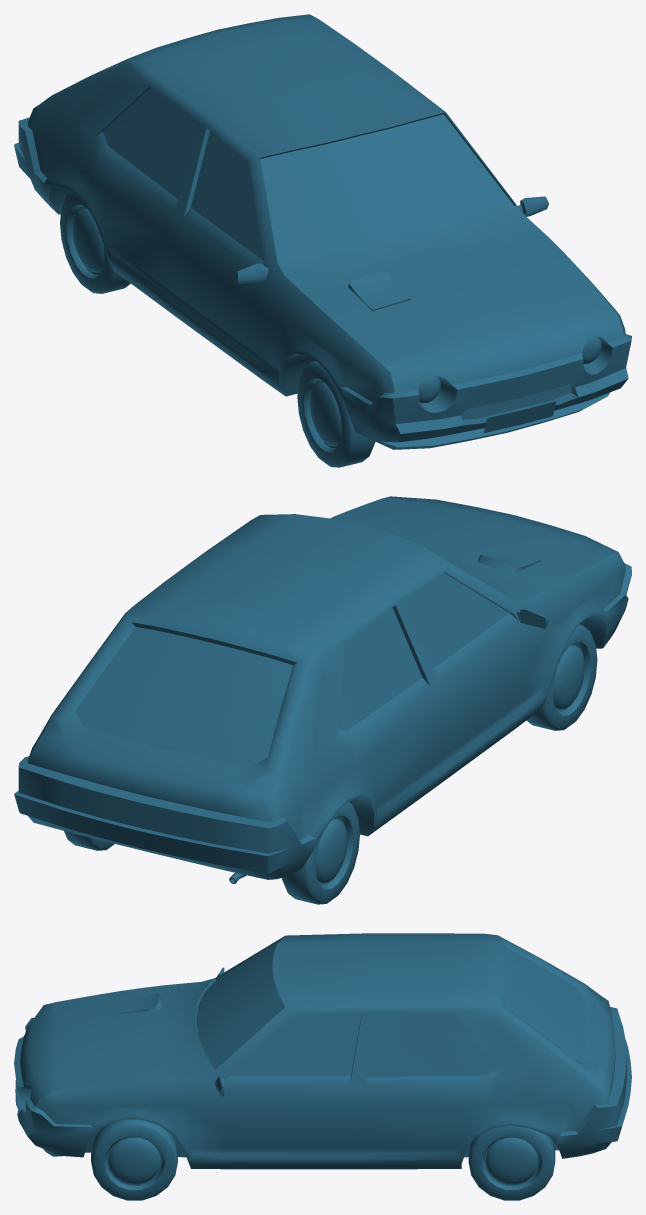
Rendered from FiatStrada_low.fbx.
3 views of the same model, one above another, from view 1: azimuth 30°, elevation 25°; view 2: azimuth 150°, elevation 25°; view 3: azimuth 270°, elevation 25° (orthographic). The views are drawn at different scales.
Parts seen in each view (by area): view 1: Fiat_low, wheelsFront_low, wheelBack_low, AirVent_low, LicencePlateFront_low, headlights_low; view 2: Fiat_low, wheelBack_low, wheelsFront_low, AirVent_low, LicencePlateBack_low; view 3: Fiat_low, wheelsFront_low, wheelBack_low, AirVent_low.
Boxes of the visible parts, <box> form: Fiat_low: <box>14,14,631,449</box>; wheelsFront_low: <box>297,361,375,467</box>; wheelBack_low: <box>60,191,130,293</box>; AirVent_low: <box>235,196,548,310</box>; LicencePlateFront_low: <box>483,401,556,432</box>; headlights_low: <box>418,336,601,403</box>; Fiat_low: <box>14,496,631,879</box>; wheelBack_low: <box>64,801,359,904</box>; wheelsFront_low: <box>526,624,597,730</box>; AirVent_low: <box>478,547,548,628</box>; LicencePlateBack_low: <box>103,799,172,834</box>; Fiat_low: <box>14,933,631,1169</box>; wheelsFront_low: <box>91,1119,177,1200</box>; wheelBack_low: <box>468,1125,555,1200</box>; AirVent_low: <box>119,967,224,1096</box>.
Size of the model in its own units: 18.9 by 13.99 by 40.89.
